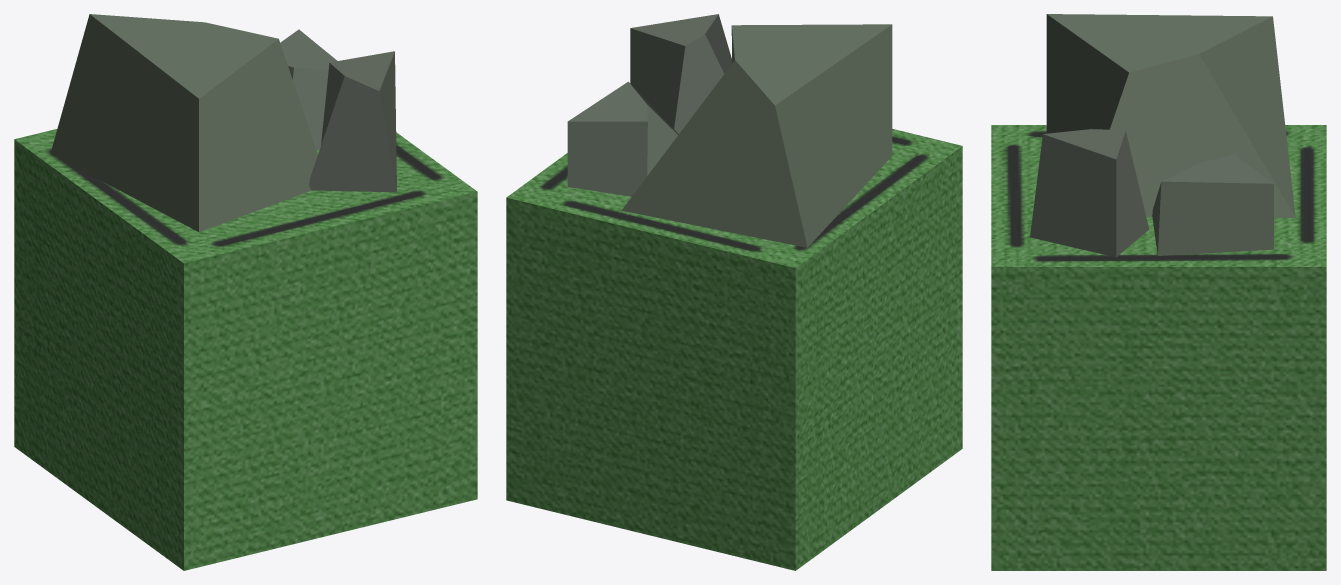
The model's file is skaly.obj.
The picture shows the model from 3 angles, left to right: view 1: azimuth 30°, elevation 25°; view 2: azimuth 150°, elevation 25°; view 3: azimuth 270°, elevation 25°; orthographic projection.
Visible parts, largest first — view 1: Box001.051; view 2: Box001.051; view 3: Box001.051.
Part boxes in pixels (x1=…): Box001.051: x1=14, y1=14, x2=477, y2=570; Box001.051: x1=506, y1=14, x2=962, y2=570; Box001.051: x1=991, y1=14, x2=1326, y2=570.
Size of the model in its own units: 0.254 by 0.3642 by 0.254.
